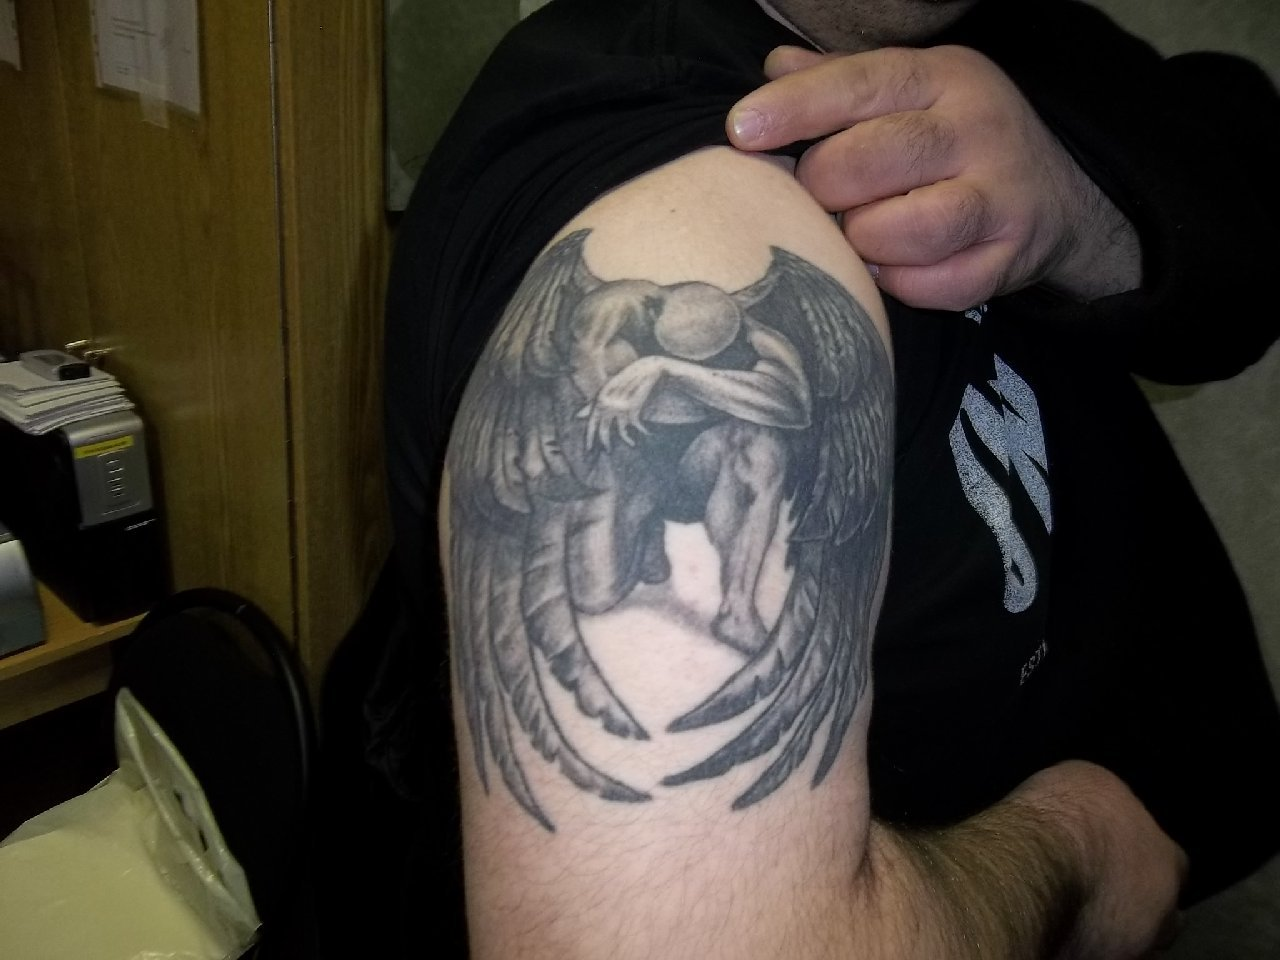tatu1_angel: (441, 234, 895, 812)
